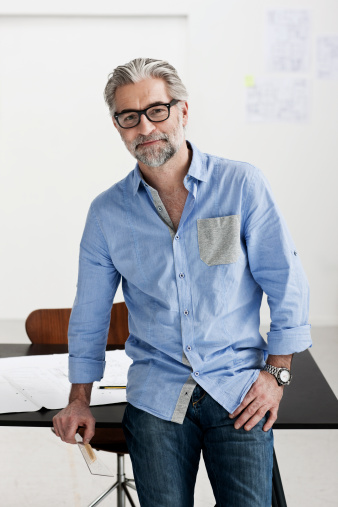em pe: (42, 54, 313, 501)
